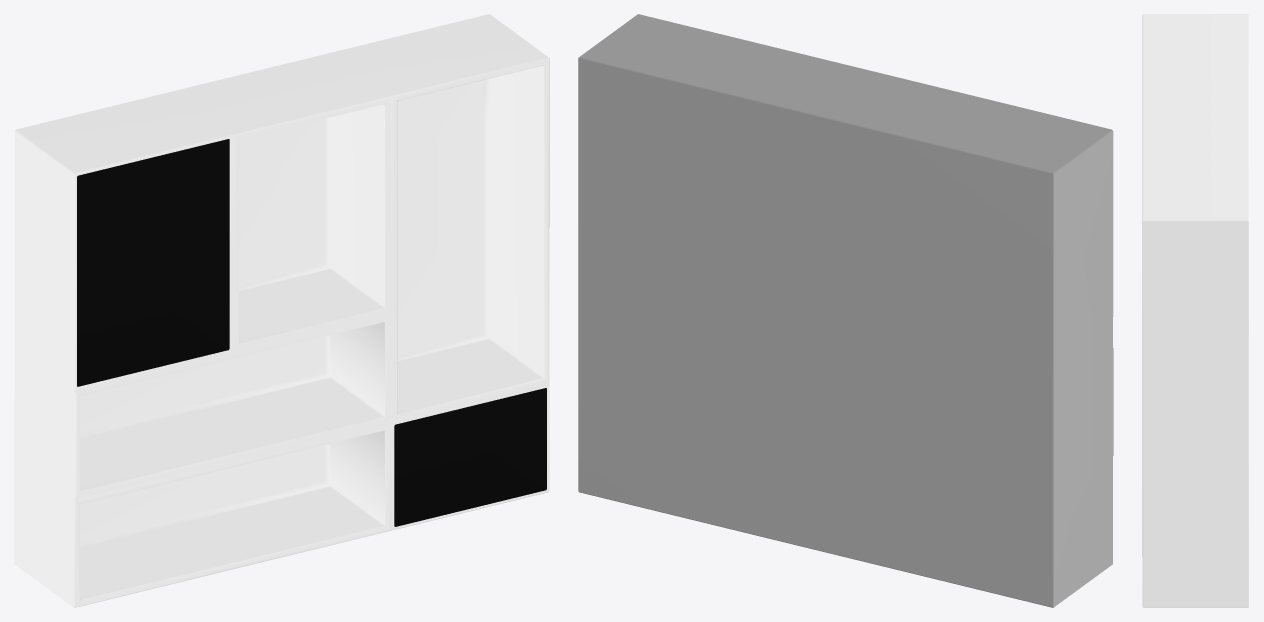
The model's file is WallCabinet(3)_67ebdad0.obj.
3 views of the same model, side by side, from view 1: azimuth 30°, elevation 25°; view 2: azimuth 150°, elevation 25°; view 3: azimuth 270°, elevation 25° (orthographic). The views are drawn at different scales.
Visible parts, largest first — view 1: WallCabinet_(3)_67ebdad0; view 2: WallCabinet_(3)_67ebdad0; view 3: WallCabinet_(3)_67ebdad0.
Boxes of the visible parts, bbox=[...] form: WallCabinet_(3)_67ebdad0: bbox=[14, 14, 549, 607]; WallCabinet_(3)_67ebdad0: bbox=[578, 14, 1113, 607]; WallCabinet_(3)_67ebdad0: bbox=[1142, 14, 1249, 607].
Size of the model in its own units: 1.45 by 1.27 by 0.3183.
